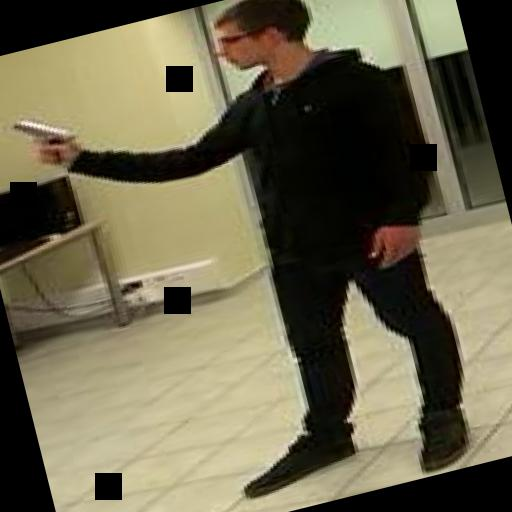Handgun: (0, 103, 76, 171)
